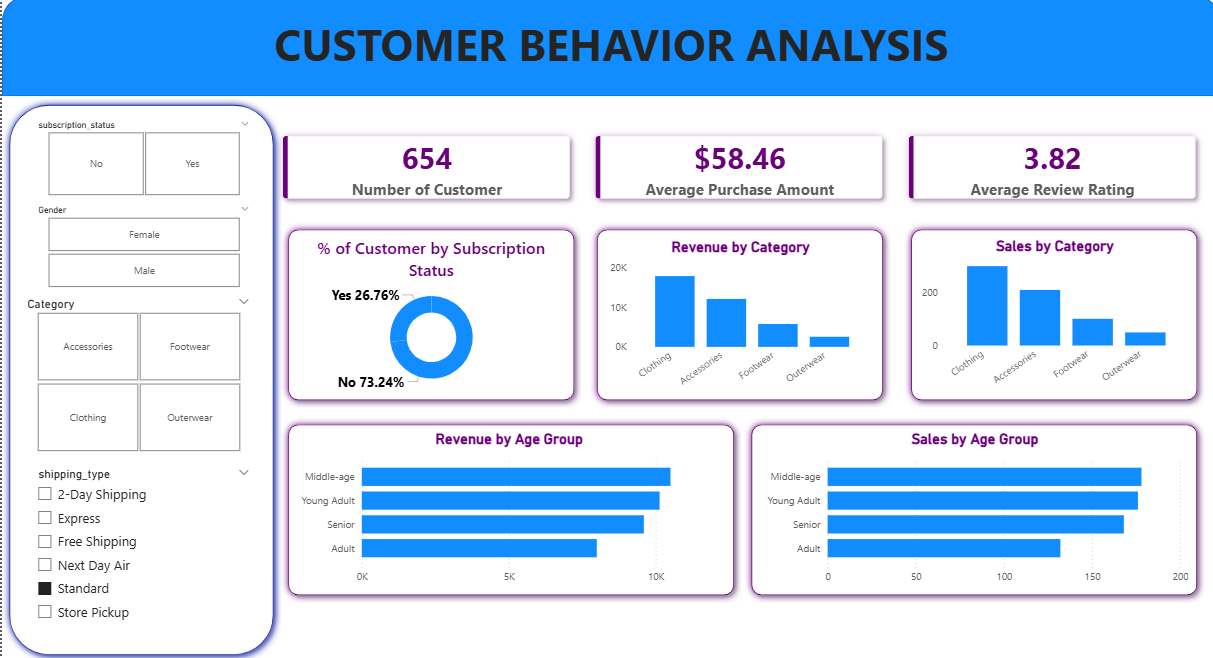

What the dashboard file says about the page in this screenshot:
{"tool":"powerbi","page":{"name":"Page 1","canvas":[1500,820],"ordinal":0},"visuals":[{"type":"cardVisual","fields":{"Data":["public customer.Number of Customer","public customer.Average Purchase Amount","public customer.Average Review Rating"]},"box":[316.7,143.3,1183.3,135],"z":0},{"type":"shape","box":[0,0,1500,123.3],"z":1000},{"type":"textbox","box":[0,16.7,1500,106.7],"z":2000},{"type":"shape","box":[343.3,278.3,370,228.3],"z":3000},{"type":"donutChart","title":"% of Customer by Subscription Status","fields":{"Category":["public customer.subscription_status"],"Y":["CountNonNull(public customer.customer_id)"]},"box":[361.7,296.7,333.3,193.3],"z":4000},{"type":"shape","box":[1110,278.3,370,228.3],"z":5000},{"type":"shape","box":[723.3,278.3,370,228.3],"z":6000},{"type":"clusteredColumnChart","title":"Revenue by Category","fields":{"Y":["Sum(public customer.purchase_amount)"],"Category":["public customer.category"]},"box":[743.3,298.3,331.7,193.3],"z":7000},{"type":"clusteredColumnChart","title":"Sales by Category","fields":{"Category":["public customer.category"],"Y":["CountNonNull(public customer.customer_id)"]},"box":[1126.7,296.7,338.3,193.3],"z":8000},{"type":"shape","box":[0,125,343.3,695],"z":9000},{"type":"slicer","fields":{"Values":["public customer.subscription_status"]},"box":[31.7,146.7,285,105],"z":10001},{"type":"slicer","fields":{"Values":["public customer.category"]},"box":[18.3,365,298.3,201.7],"z":10002},{"type":"slicer","fields":{"Values":["public customer.gender"]},"box":[31.7,251.7,285,113.3],"z":10003},{"type":"slicer","fields":{"Values":["public customer.shipping_type"]},"box":[31.7,575,285,220],"z":10004},{"type":"shape","box":[343.3,518.3,566.7,228.3],"z":10006},{"type":"clusteredBarChart","title":"Revenue by Age Group","fields":{"Y":["Sum(public customer.purchase_amount)"],"Category":["public customer.age_group"]},"box":[356.7,535,535,198.3],"z":10007},{"type":"shape","box":[913.3,518.3,566.7,228.3],"z":10008},{"type":"clusteredBarChart","title":"Sales by Age Group","fields":{"Y":["CountNonNull(public customer.customer_id)"],"Category":["public customer.age_group"]},"box":[930,535,535,198.3],"z":10009}]}

Visuals, with their boxes in screenshot pixels (x1, y1, x2, y2), scaled from the page's 1500x820 canvas onto the 1213x658 screenshot:
cardVisual - public customer.Number of Customer x public customer.Average Purchase Amount: left=256, top=115, right=1212, bottom=223
shape: left=0, top=0, right=1212, bottom=99
textbox: left=0, top=13, right=1212, bottom=99
shape: left=278, top=223, right=577, bottom=407
"% of Customer by Subscription Status" donutChart: left=292, top=238, right=562, bottom=393
shape: left=898, top=223, right=1197, bottom=407
shape: left=585, top=223, right=884, bottom=407
"Revenue by Category" clusteredColumnChart: left=601, top=239, right=869, bottom=394
"Sales by Category" clusteredColumnChart: left=911, top=238, right=1185, bottom=393
shape: left=0, top=100, right=278, bottom=657
slicer - public customer.subscription_status: left=26, top=118, right=256, bottom=202
slicer - public customer.category: left=15, top=293, right=256, bottom=455
slicer - public customer.gender: left=26, top=202, right=256, bottom=293
slicer - public customer.shipping_type: left=26, top=461, right=256, bottom=638
shape: left=278, top=416, right=736, bottom=599
"Revenue by Age Group" clusteredBarChart: left=288, top=429, right=721, bottom=588
shape: left=739, top=416, right=1197, bottom=599
"Sales by Age Group" clusteredBarChart: left=752, top=429, right=1185, bottom=588
